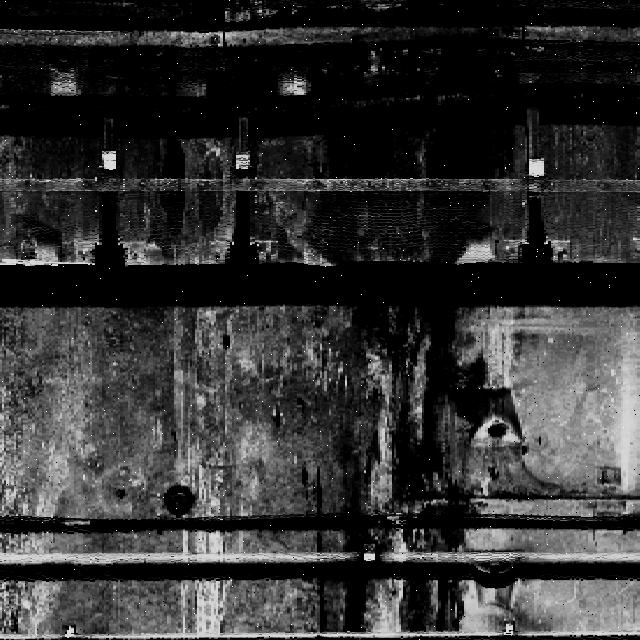leakage: (309, 309, 503, 636), (294, 120, 517, 270), (149, 137, 190, 251)
